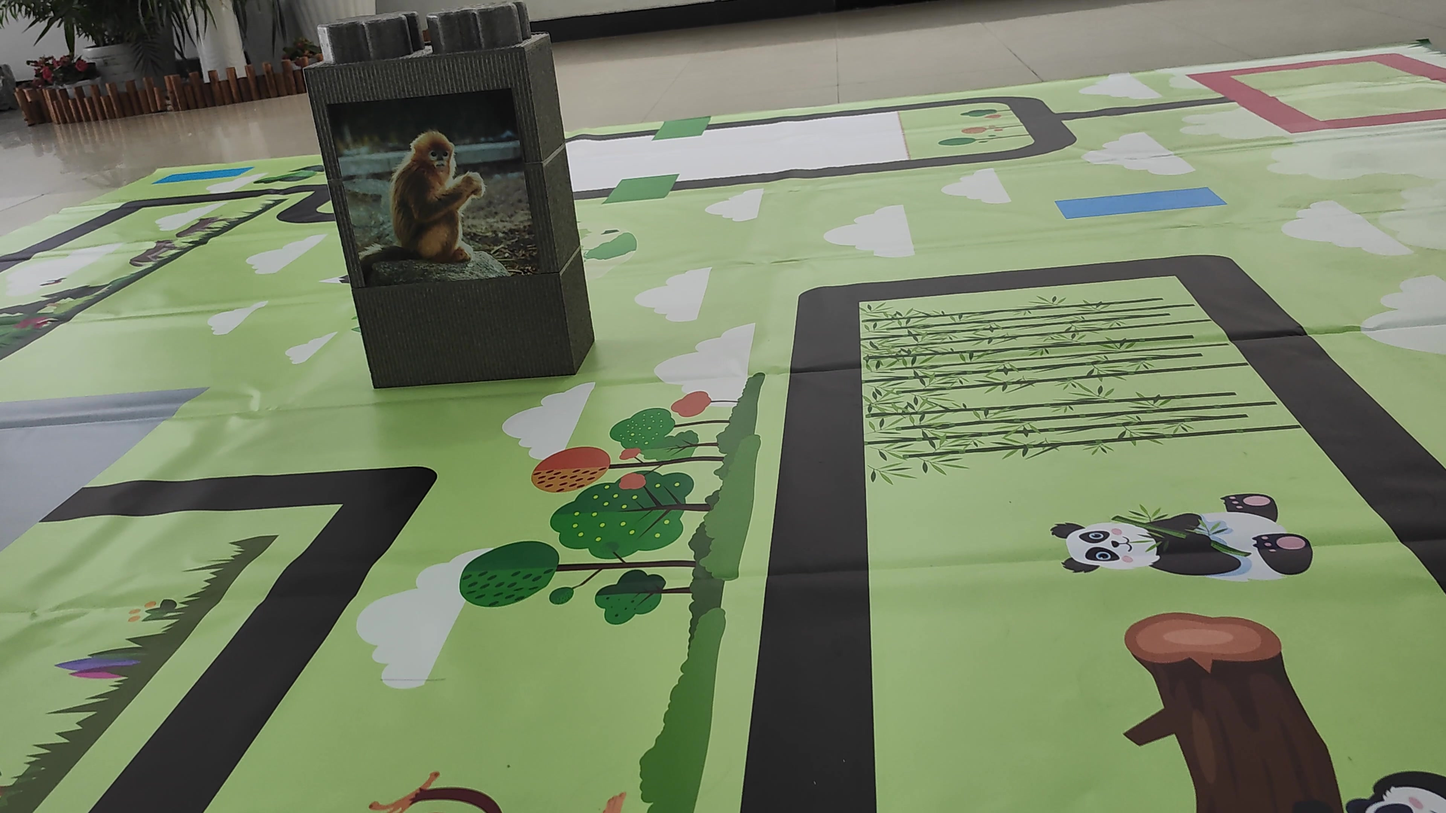monkey: (347, 114, 514, 284)
